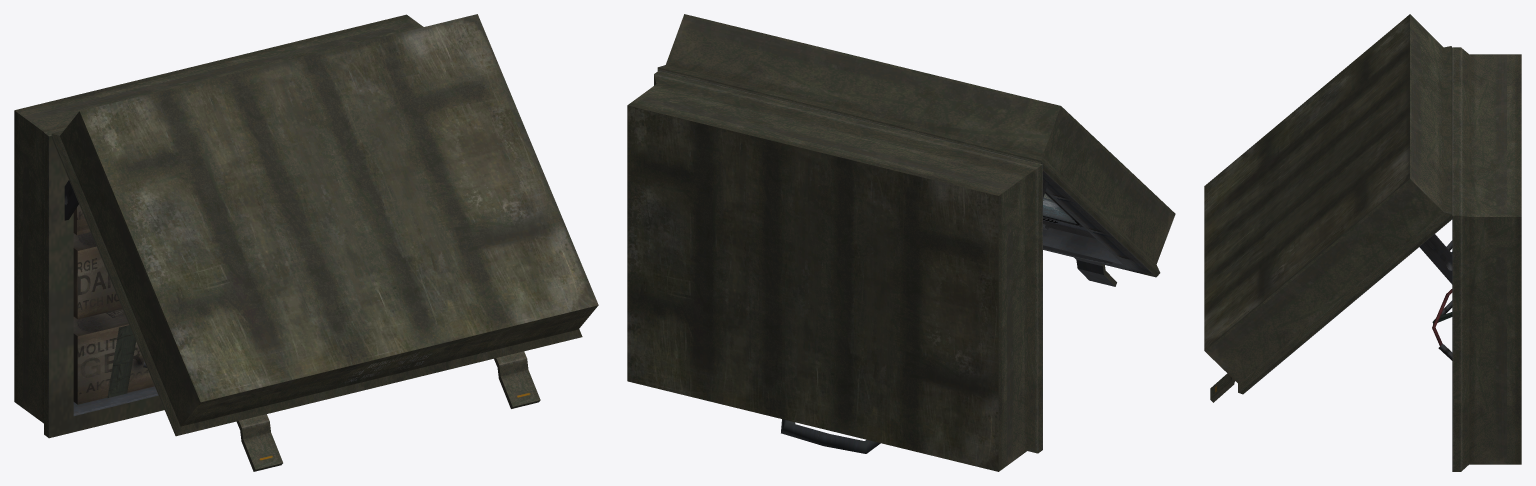
The model's file is prop_suitcase_bomb_LOD1.obj.
3 renders of one model, left to right at view 1: azimuth 30°, elevation 25°; view 2: azimuth 150°, elevation 25°; view 3: azimuth 270°, elevation 25°, orthographic. The views are drawn at different scales.
Parts seen in each view (by area): view 1: mtl_t6_wpn_briefcase_bomb; view 2: mtl_t6_wpn_briefcase_bomb, mtl_t6_wpn_tablet; view 3: mtl_t6_wpn_briefcase_bomb.
Part boxes in pixels (box(x1,y1,x2,y2)): mtl_t6_wpn_briefcase_bomb: box(14, 14, 598, 471); mtl_t6_wpn_briefcase_bomb: box(627, 14, 1175, 471); mtl_t6_wpn_tablet: box(1043, 191, 1095, 238); mtl_t6_wpn_briefcase_bomb: box(1204, 14, 1521, 471).
Bounding box in the file's own units: 54.19 × 46.62 × 42.99.
